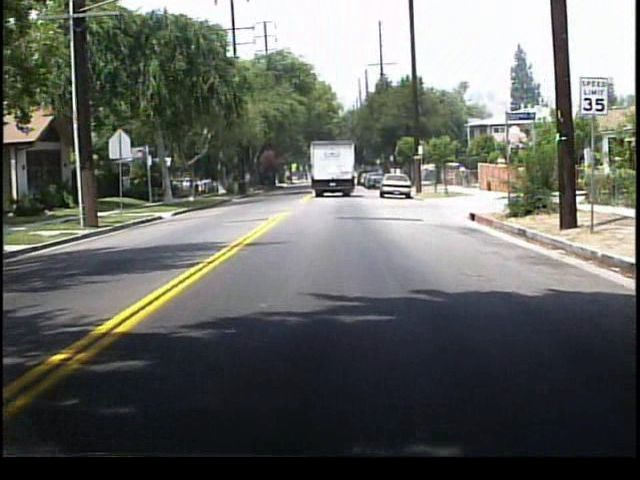person: (456, 164, 467, 189)
